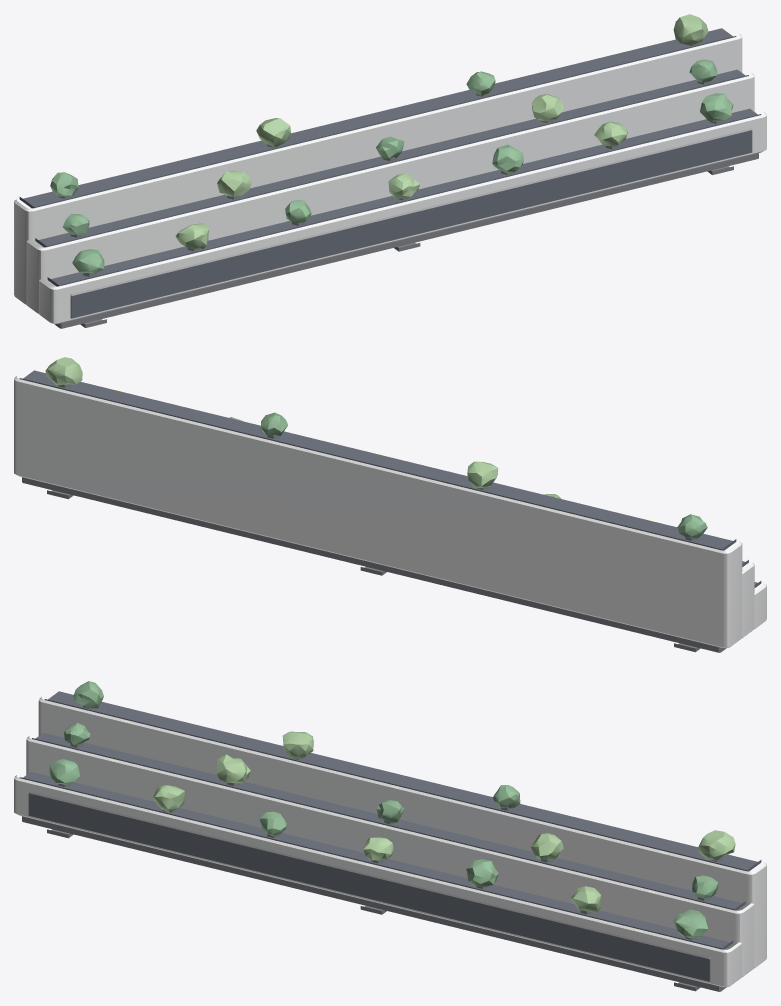
The model's file is hydro_planter_tiered_exterior_pre_recut.glb.
The picture shows the model from 3 angles, top to bottom: view 1: azimuth 30°, elevation 25°; view 2: azimuth 150°, elevation 25°; view 3: azimuth 330°, elevation 25°; orthographic projection.
Parts seen in each view (by area): view 1: Tiers, Tier_Lids, Reservoir, Foliage, Foliage_Light, Base_Frame, Reservoir_Seal; view 2: Tiers, Tier_Lids, Base_Frame, Foliage_Light, Foliage; view 3: Tiers, Tier_Lids, Reservoir, Foliage, Foliage_Light, Base_Frame, Reservoir_Seal.
Boxes of the visible parts, x1,y1,x2,y2 form: Tiers: (14,34,766,324); Tier_Lids: (19,28,761,286); Reservoir: (70,130,752,318); Foliage: (50,59,733,273); Foliage_Light: (175,14,708,249); Base_Frame: (55,153,758,328); Reservoir_Seal: (70,128,752,296); Tiers: (14,376,766,648); Tier_Lids: (19,370,761,587); Base_Frame: (22,477,726,652); Foliage_Light: (45,357,561,498); Foliage: (260,412,707,538); Tiers: (14,697,766,987); Tier_Lids: (19,691,761,949); Reservoir: (28,793,710,981); Foliage: (49,681,718,938); Foliage_Light: (153,731,735,913); Base_Frame: (22,816,726,991); Reservoir_Seal: (28,791,710,959).
Bounding box in the file's own units: 4 × 0.701 × 0.406.
